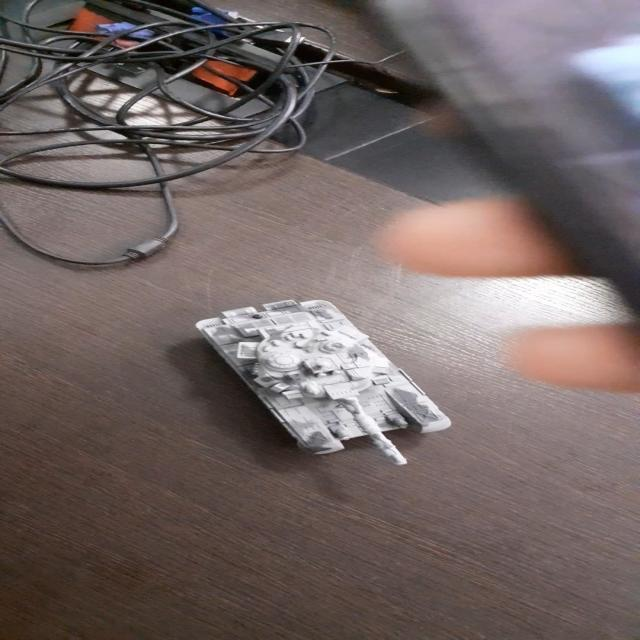Tanks: (197, 296, 452, 468)
